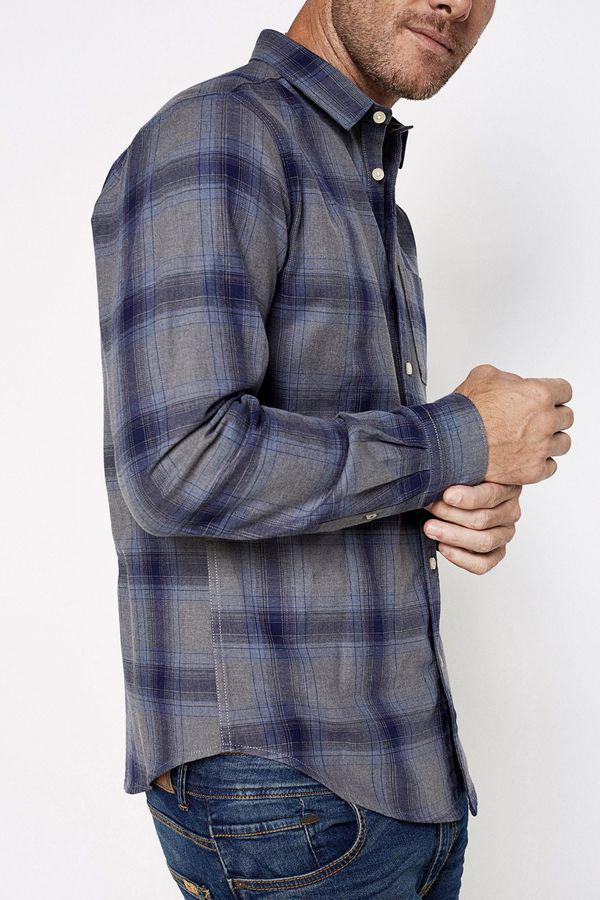teeshirt: (61, 18, 500, 841)
